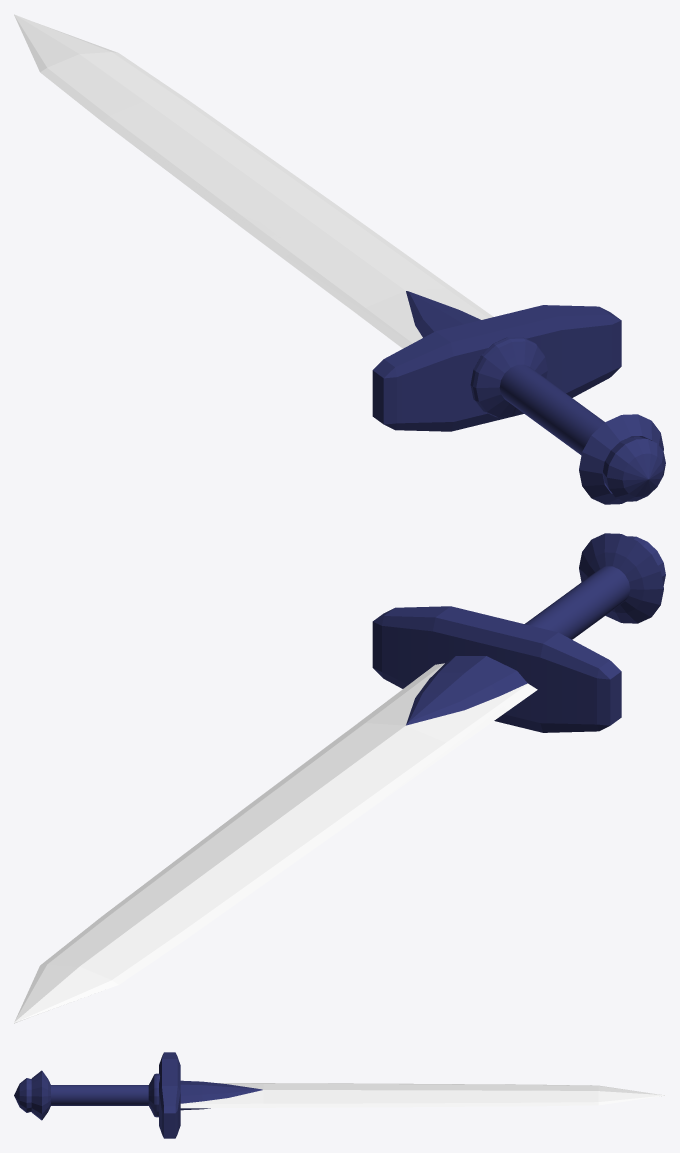
Rendered from SwordBody.fbx.
3 renders of one model, top to bottom at view 1: azimuth 30°, elevation 25°; view 2: azimuth 150°, elevation 25°; view 3: azimuth 270°, elevation 25°, orthographic. The views are drawn at different scales.
Parts seen in each view (by area): view 1: Sword; view 2: Sword; view 3: Sword.
Boxes of the visible parts, left/top/right/bottom form: Sword: left=14, top=14, right=665, bottom=504; Sword: left=14, top=533, right=665, bottom=1023; Sword: left=14, top=1052, right=665, bottom=1138.
Bounding box in the file's own units: 0.1958 × 0.0702 × 0.9055.
